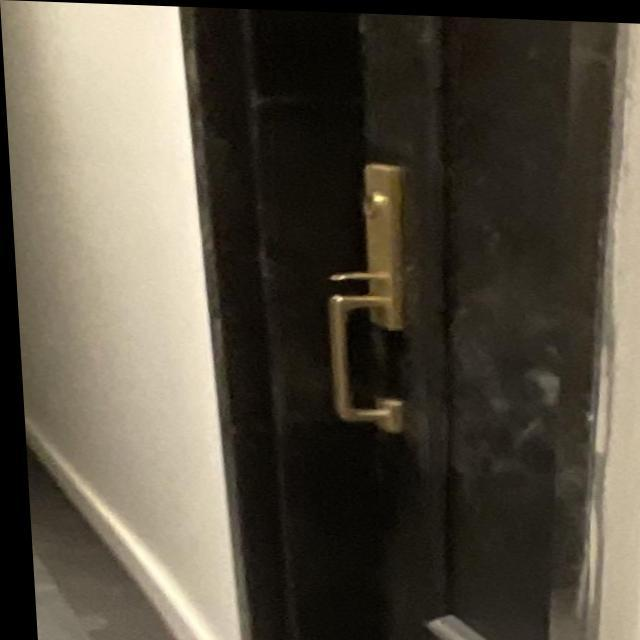door_handle: (306, 285, 424, 439)
